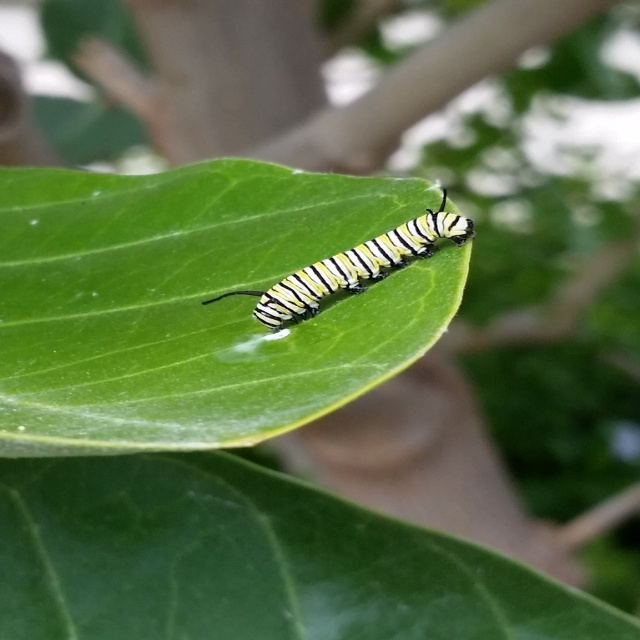Caterpillar: (205, 183, 471, 326)
